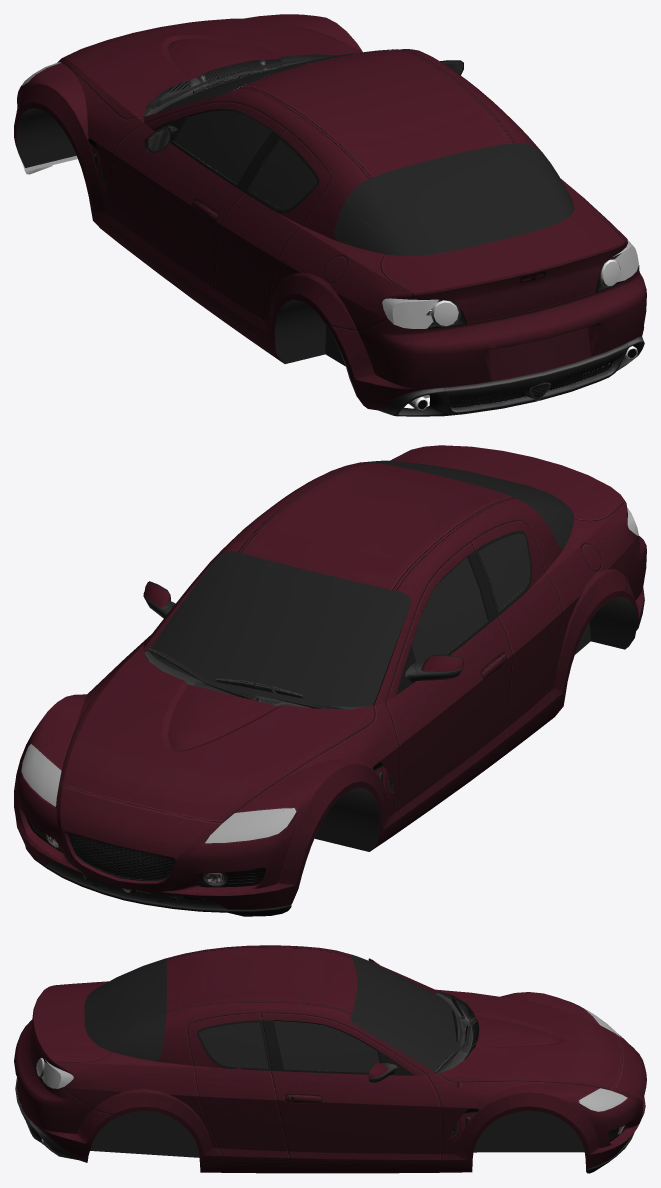
The model's file is cars.fbx.
The picture shows the model from 3 angles, top to bottom: view 1: azimuth 30°, elevation 25°; view 2: azimuth 150°, elevation 25°; view 3: azimuth 270°, elevation 25°; orthographic projection. The views are drawn at different scales.
Visible parts, largest first — view 1: body1, light_glass; view 2: body1, light_glass; view 3: body1, light_glass.
Boxes of the visible parts, <box> form: body1: <box>14,14,646,416</box>; light_glass: <box>21,17,638,328</box>; body1: <box>14,445,646,916</box>; light_glass: <box>21,507,638,843</box>; body1: <box>14,945,646,1173</box>; light_glass: <box>36,1007,627,1111</box>.
Bounding box in the file's own units: 9.42 × 6.1 × 22.11.
